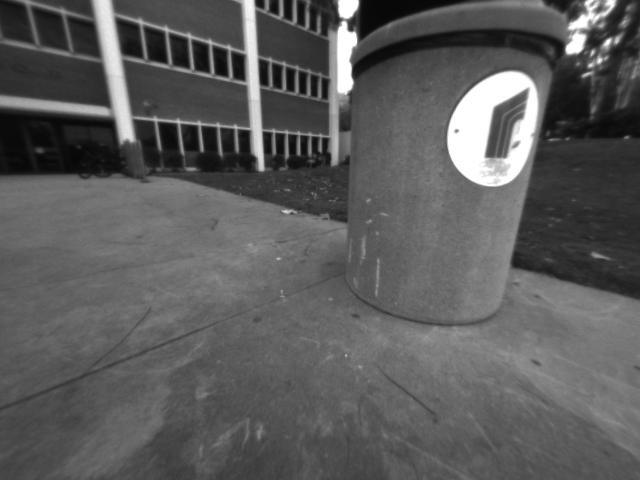trashcan: (345, 1, 573, 340)
